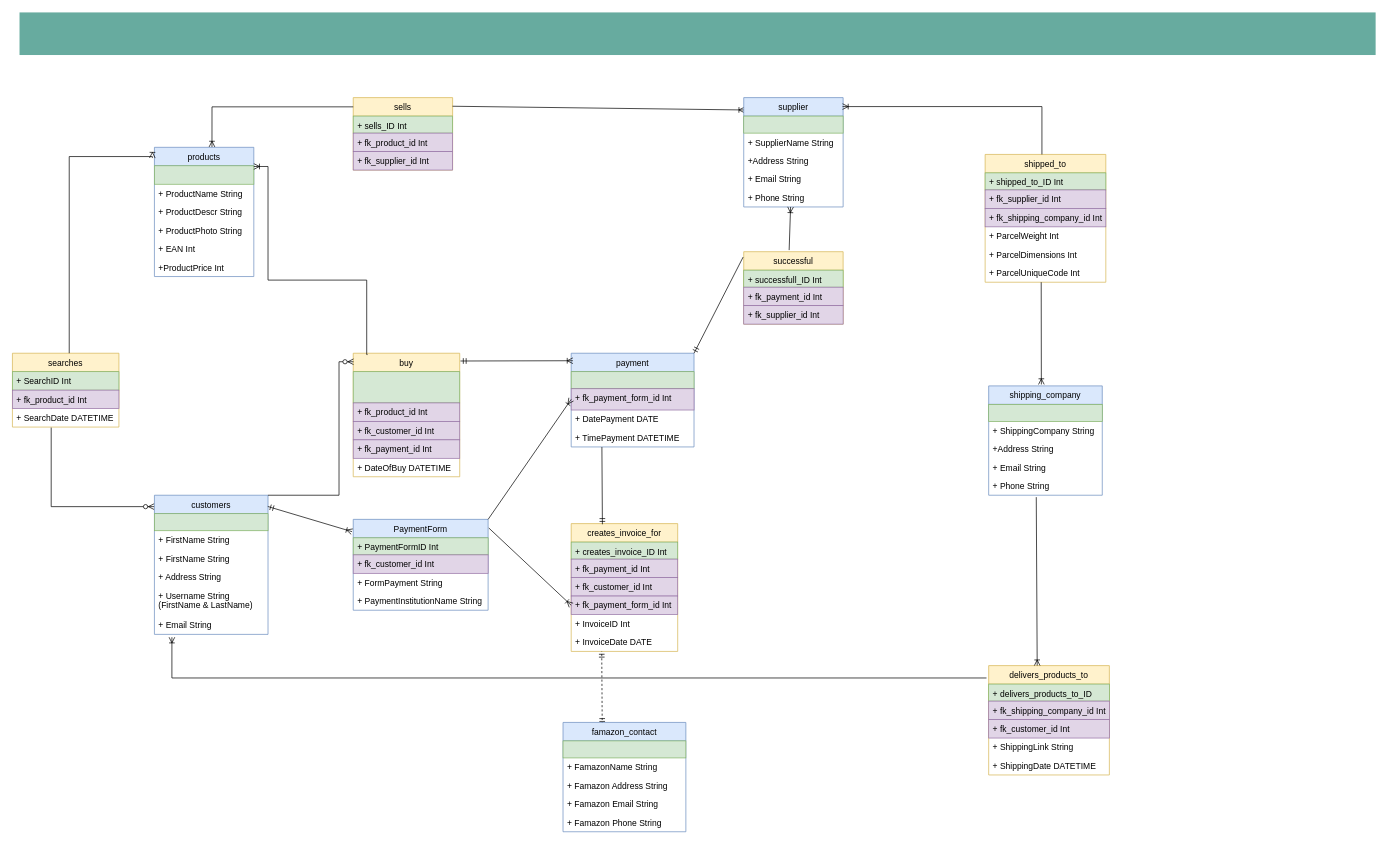
Some shapes in this 1388 by 846 pixel diagram are drawn without their labels. The shapes that lost their labels are listed below. From the top down, each one's centre as x and y in pixels, then its label:
the point at 697,33: Step 4: Normalization - 4NF
the point at 793,124: + SupplierID Int
the point at 204,174: + ProductID Int
the point at 406,387: + buy_ID String (ProductId & DateOfBuy)
the point at 632,380: + PaymentID Int
the point at 1045,412: + ShippingCompanyID Int
the point at 211,522: + CustomerID Int
the point at 624,749: + FamazonContactID Int
